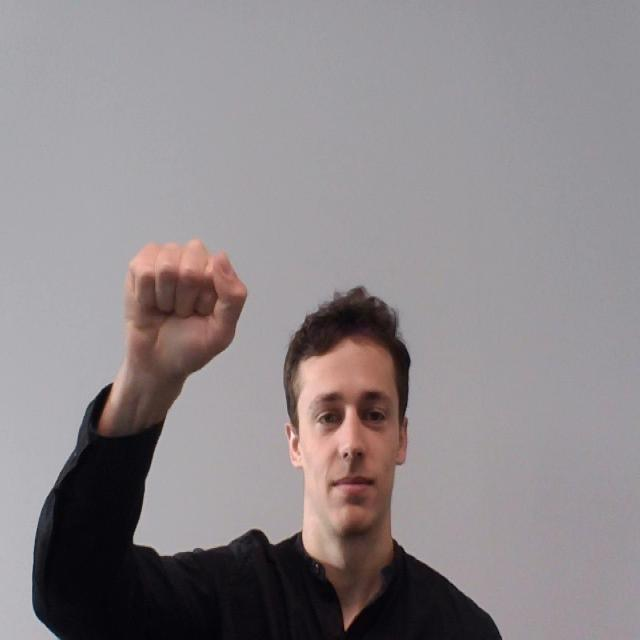stop: (106, 222, 258, 388)
